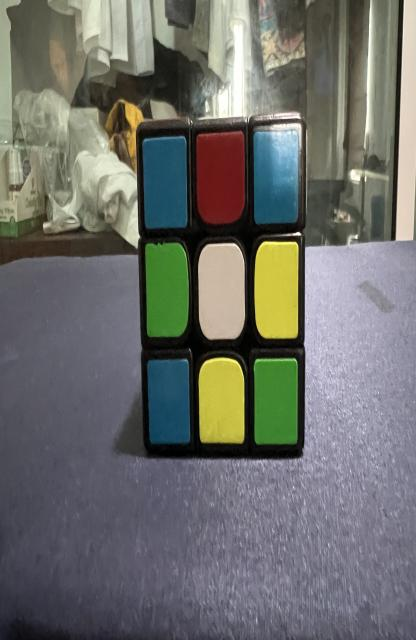Blue: (254, 130, 299, 225), (142, 137, 188, 228), (147, 358, 190, 445)
Green: (145, 243, 188, 337), (254, 358, 298, 445)
Red: (197, 132, 245, 225)
White: (198, 243, 245, 340)
Yellow: (254, 242, 298, 338), (198, 357, 245, 443)
